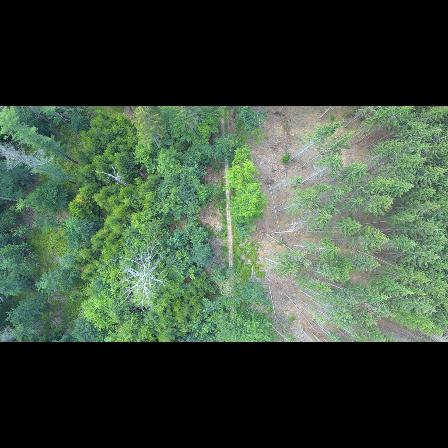Dead: (115, 241, 164, 312), (0, 143, 61, 172), (90, 164, 132, 186)
